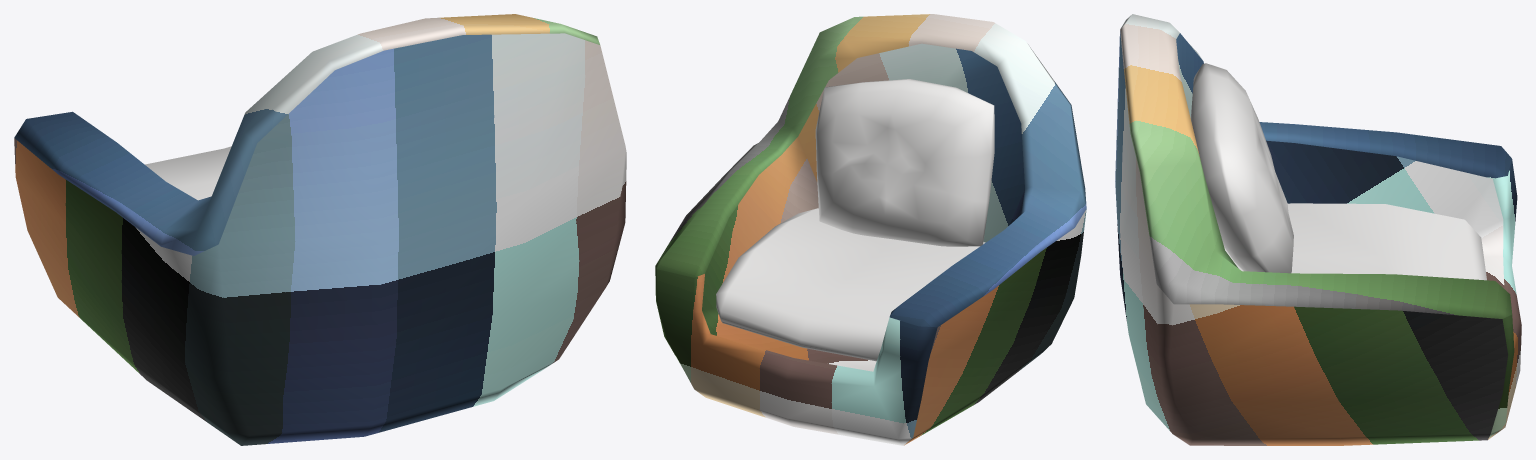
The model's file is P_StoneArmchair.glb.
3 renders of one model, left to right at view 1: azimuth 30°, elevation 25°; view 2: azimuth 150°, elevation 25°; view 3: azimuth 270°, elevation 25°, orthographic. The views are drawn at different scales.
Visible parts, largest first — view 1: P_StoneArmchair; view 2: P_StoneArmchair; view 3: P_StoneArmchair.
Boxes of the visible parts, box(x1,y1,x2,y2) form: P_StoneArmchair: box(14, 14, 626, 445); P_StoneArmchair: box(655, 14, 1086, 445); P_StoneArmchair: box(1115, 14, 1521, 445).
Bounding box in the file's own units: 1.09 × 0.9528 × 1.03.
1 material, 1 textured.
